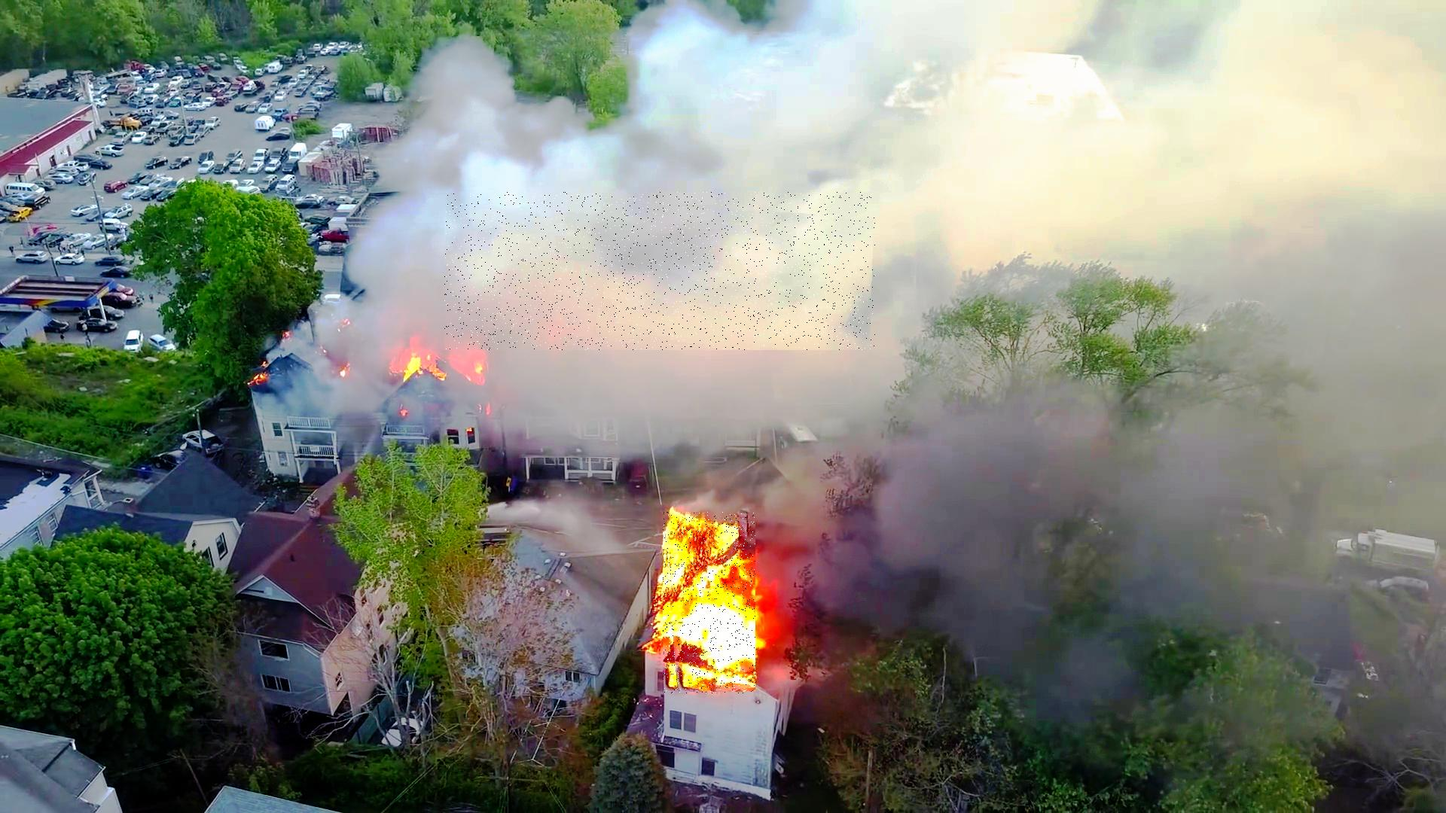fire: (663, 513, 756, 694)
smoke: (445, 192, 876, 350)
